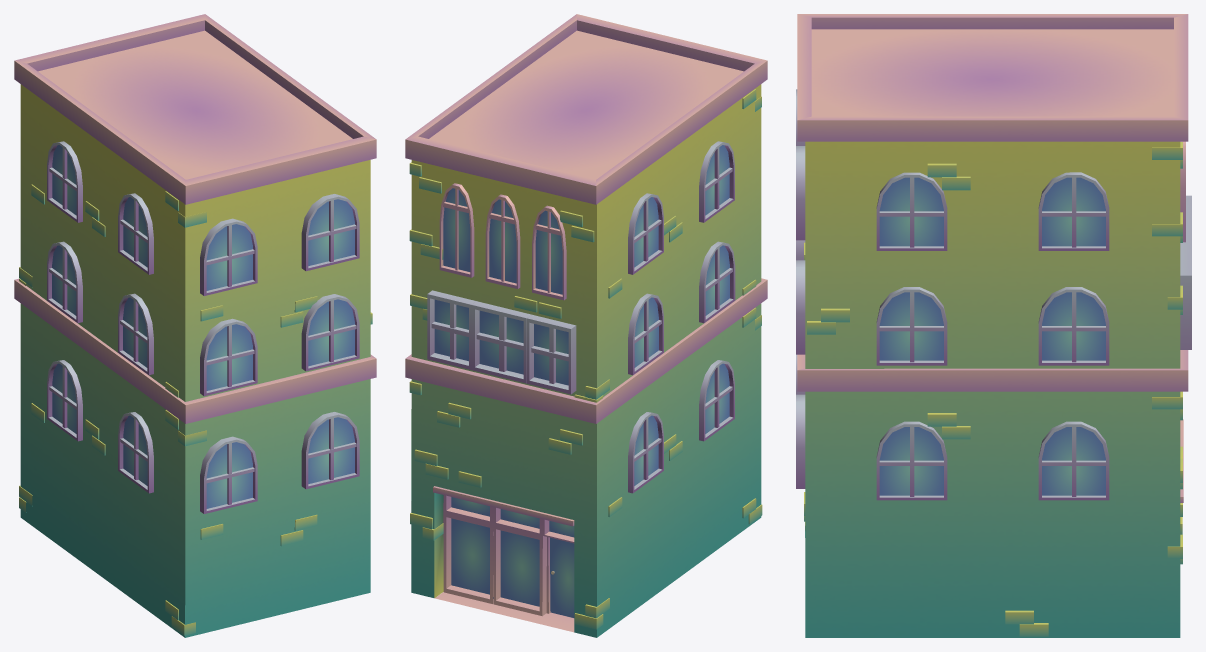
The picture shows the model from 3 angles, left to right: view 1: azimuth 30°, elevation 25°; view 2: azimuth 150°, elevation 25°; view 3: azimuth 270°, elevation 25°; orthographic projection. The views are drawn at different scales.
Visible parts, largest first — view 1: SM_4F_05; view 2: SM_4F_05; view 3: SM_4F_05.
Boxes of the visible parts, left/top/right/bottom form: SM_4F_05: left=14, top=14, right=376, bottom=637; SM_4F_05: left=405, top=14, right=767, bottom=637; SM_4F_05: left=796, top=14, right=1191, bottom=637.
Bounding box in the file's own units: 6.01 × 9.26 × 13.41.
